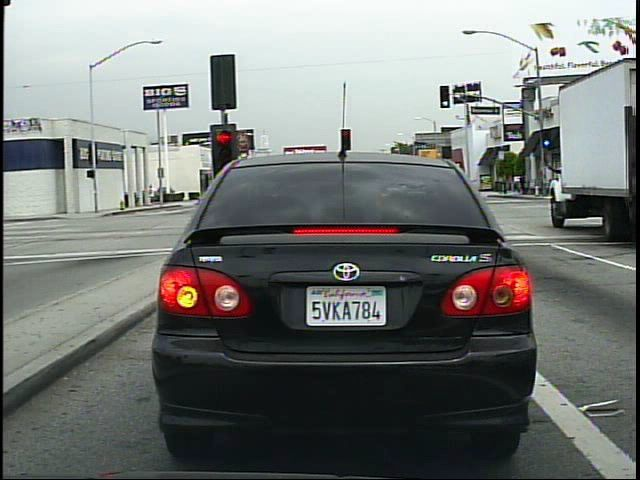person: (518, 171, 528, 196), (150, 181, 153, 209)
